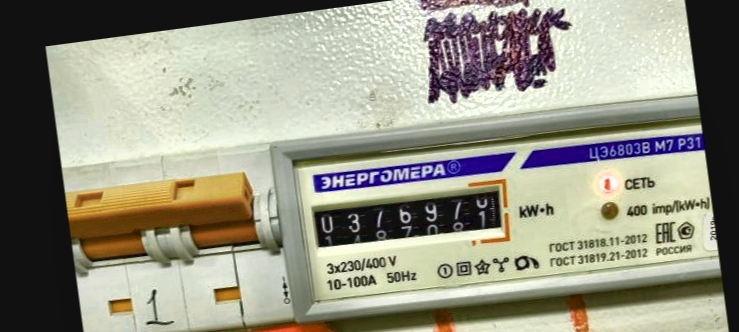0: (317, 211, 334, 235)
1: (475, 209, 489, 230)
3: (346, 211, 362, 234)
6: (396, 201, 414, 225)
7: (370, 205, 388, 231), (448, 197, 466, 222)
9: (422, 199, 439, 223)
screen: (301, 167, 518, 270)
